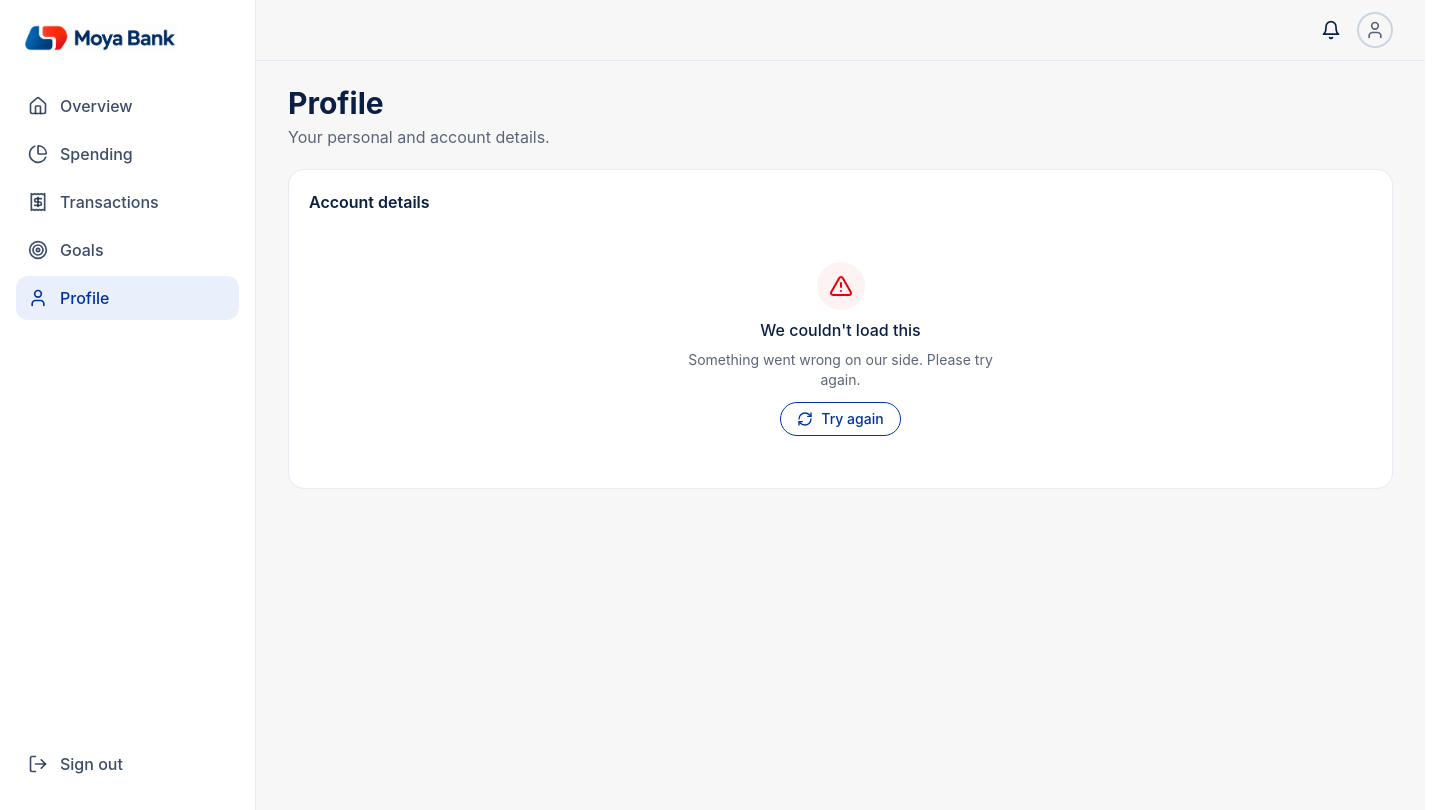
Test case: Profile page › shows one error with retry when the profile can't load
Click the button "Try again". click: (840, 419)
box: [780,402,901,436]
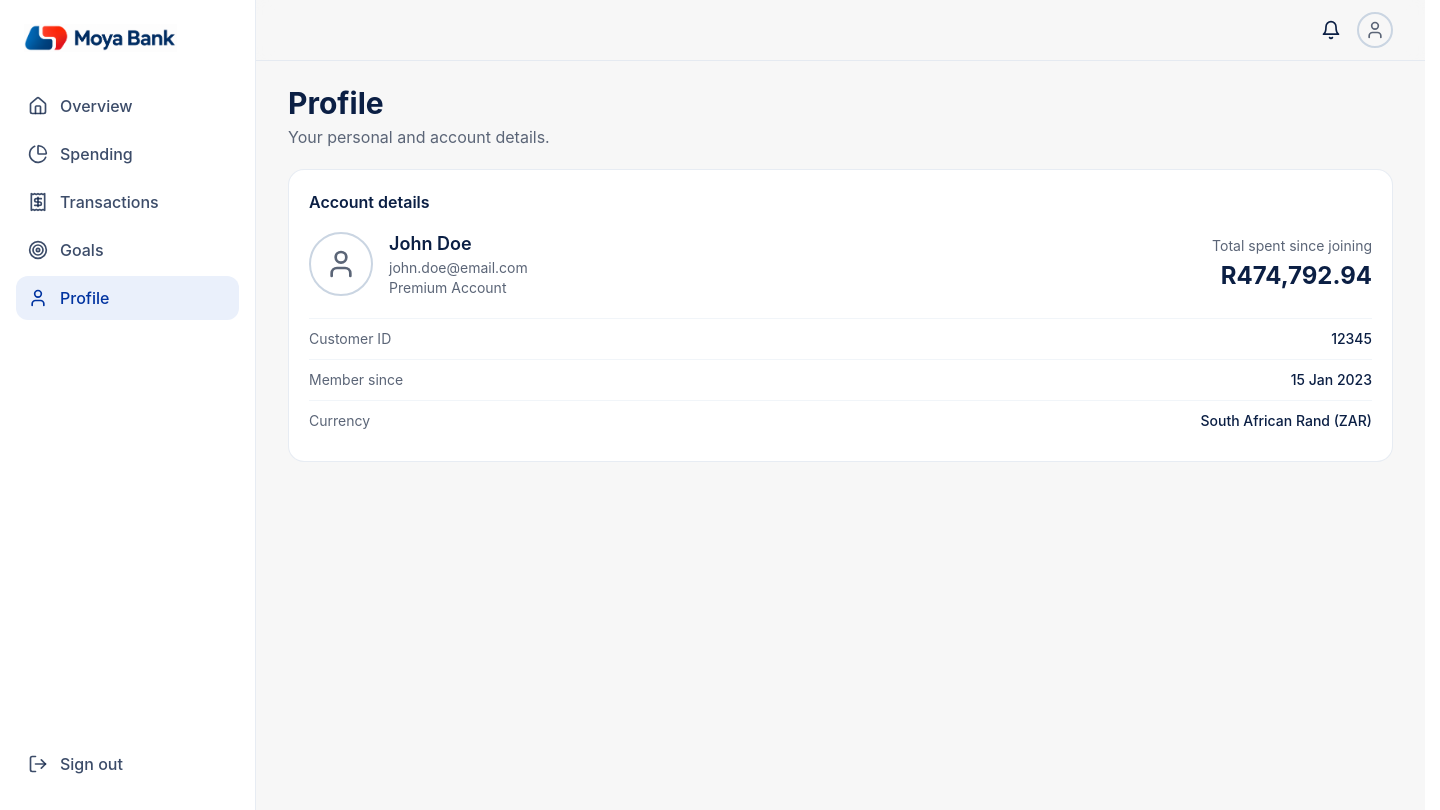
Now the text "John Doe" is shown, box [389,233,472,254]
